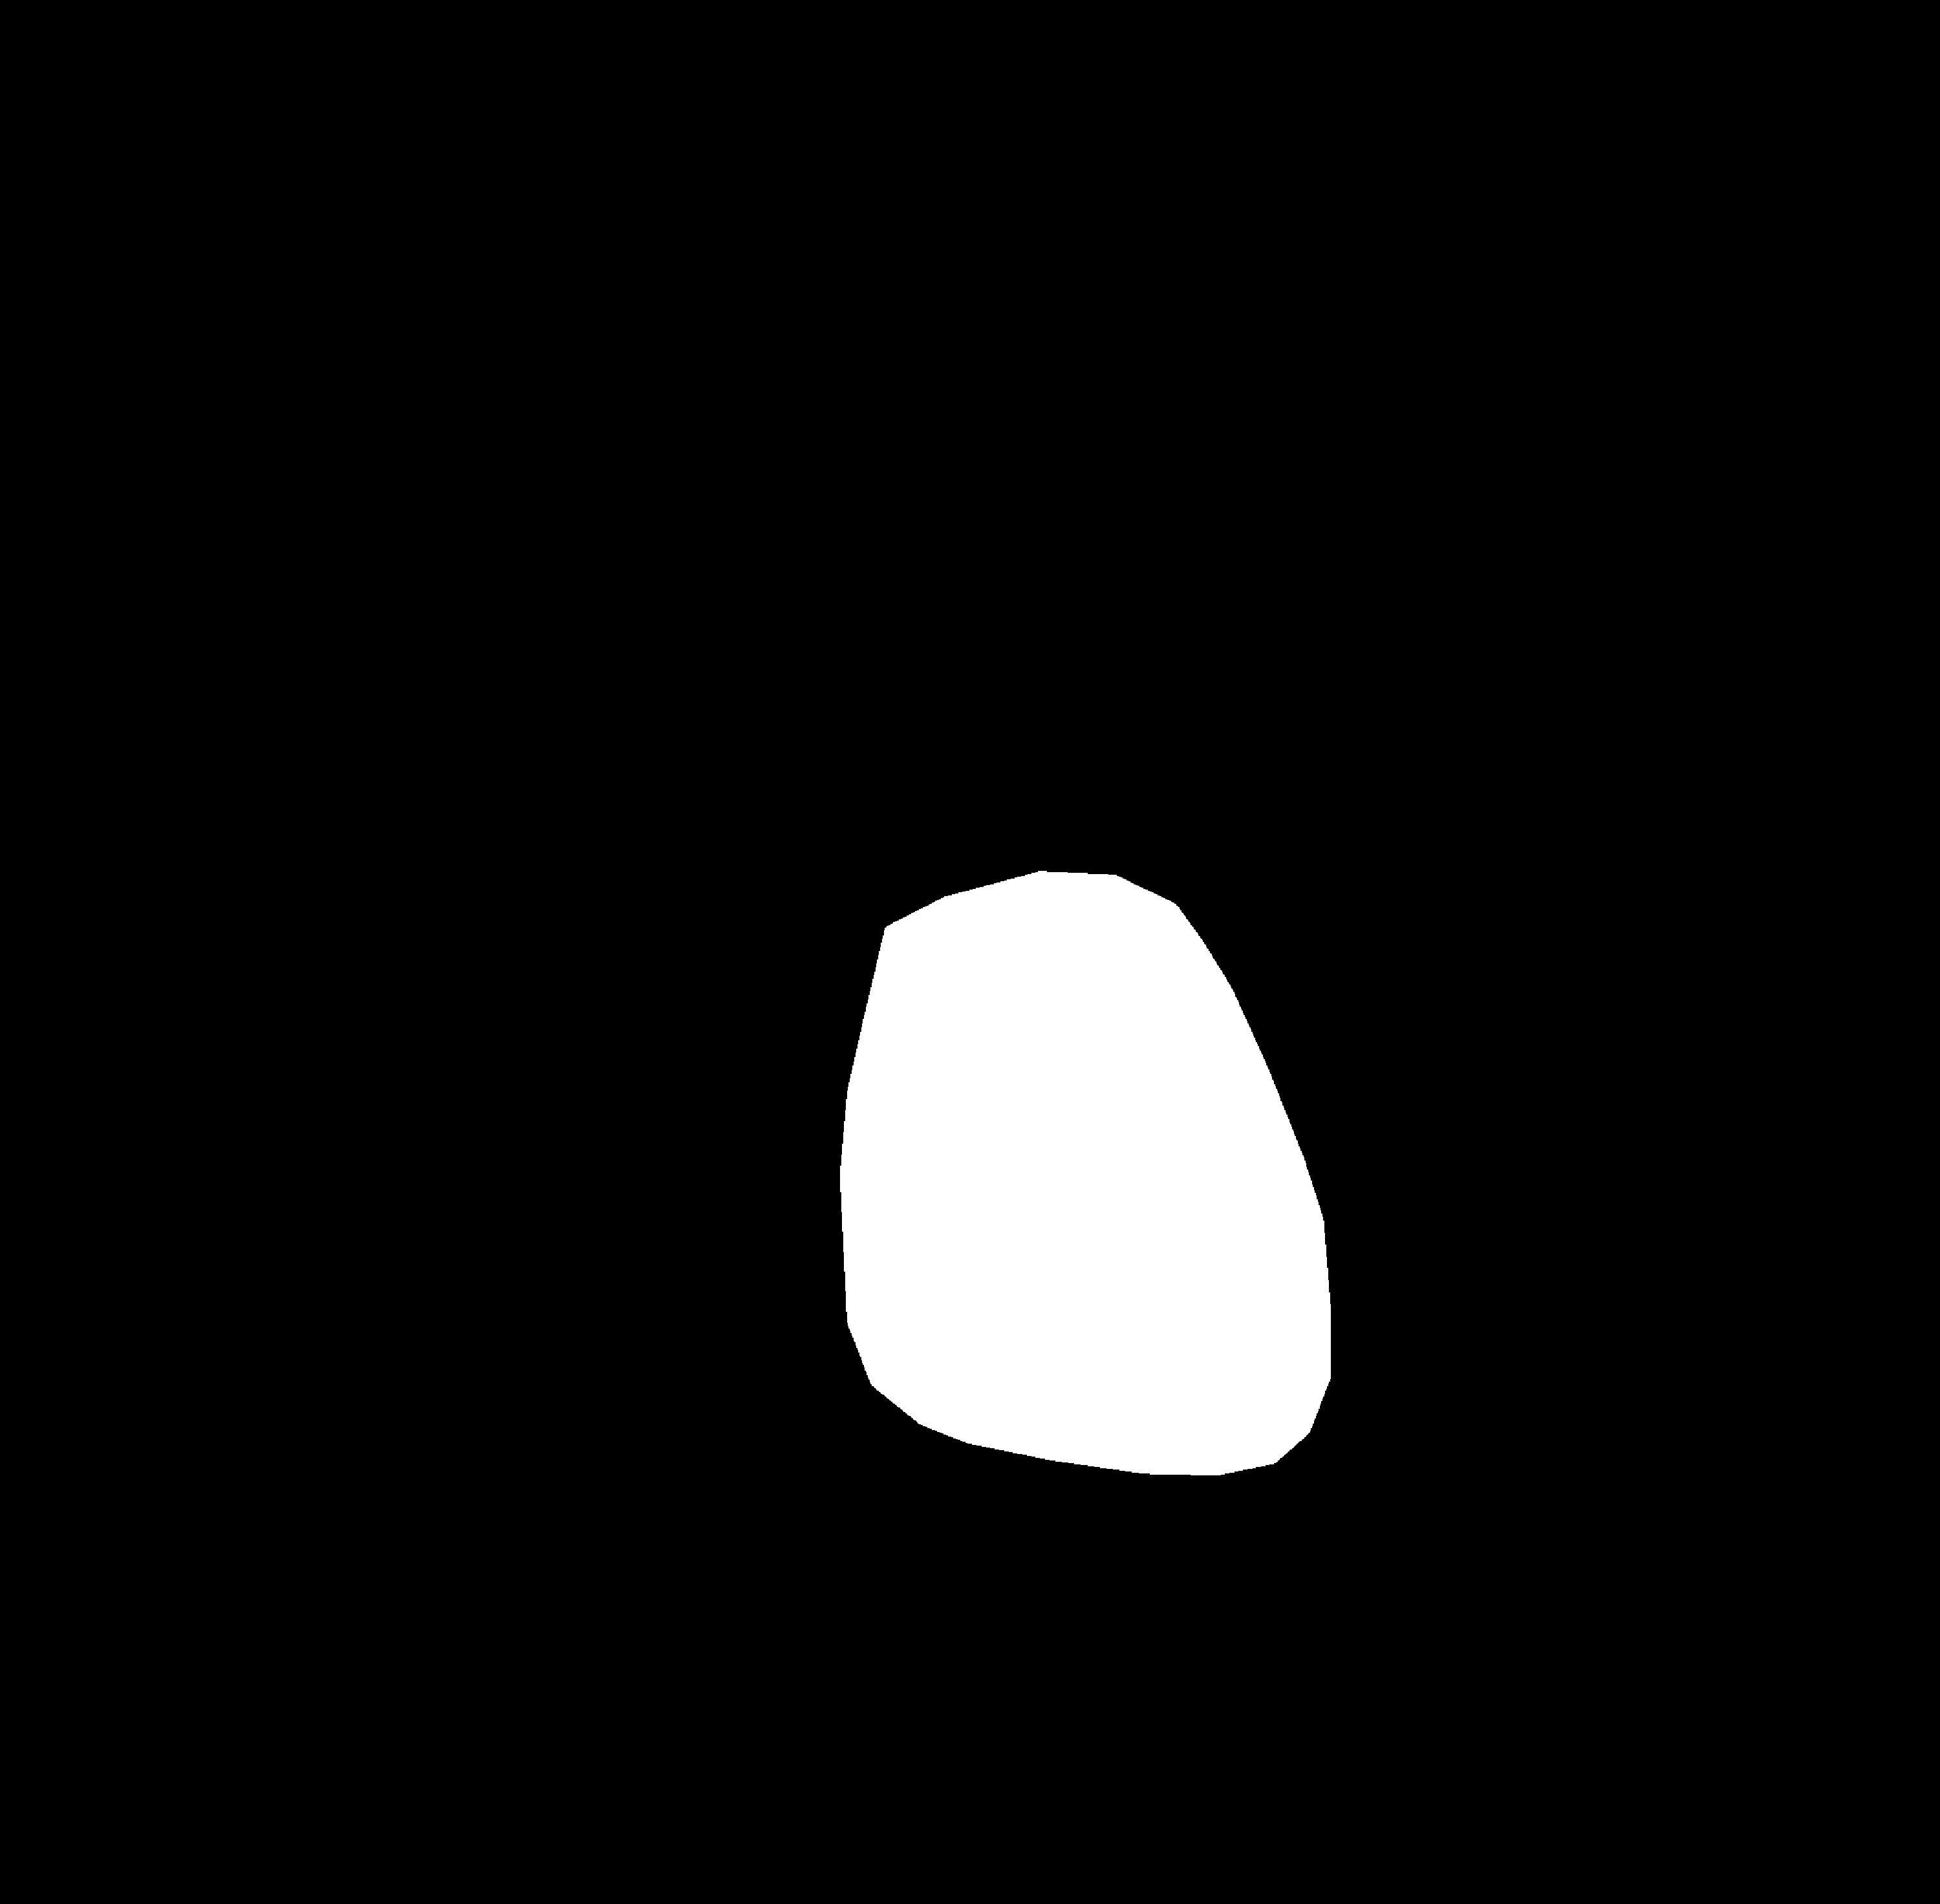heart: (837, 962, 1329, 1513)
left_lung: (323, 258, 954, 1651)
right_lung: (1099, 242, 1724, 1644)
